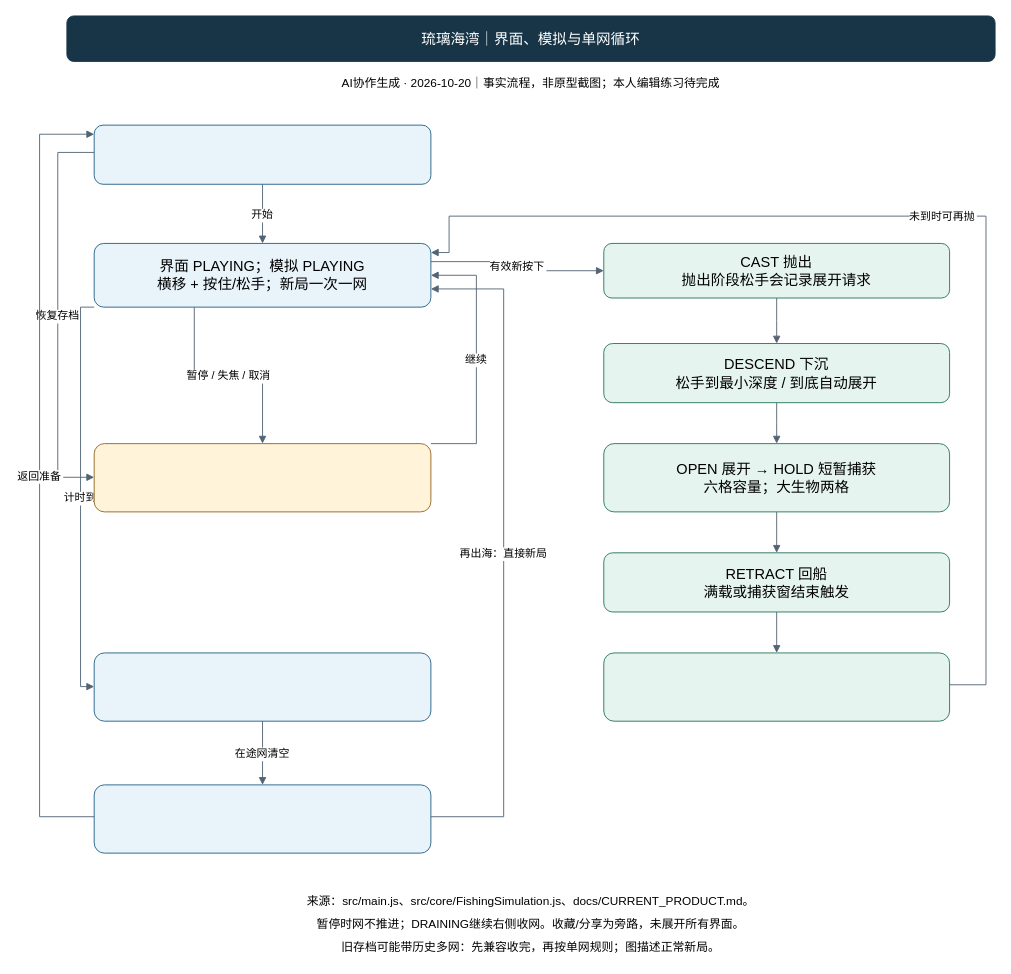
Image size: 1011x974. Some labels were removed from this diagram. The centre of each missing label's shape, as x and y in pixels:
"return：鱼获、分数入账 移除在途网，才释放下一网投掷资格" goes at (x=776, y=686).
"准备页 READY 开始 / 有有效存档时恢复" goes at (x=262, y=154).
"模拟 / 界面 ENDED 提交战绩、图鉴/徽章/来信；可再出海" goes at (x=262, y=818).
"模拟 DRAINING；界面仍 PLAYING 90秒到：不新投网，收完在途网" goes at (x=262, y=686).
"界面 PAUSED 清输入、保留原网；恢复存档先到此页" goes at (x=262, y=477).
